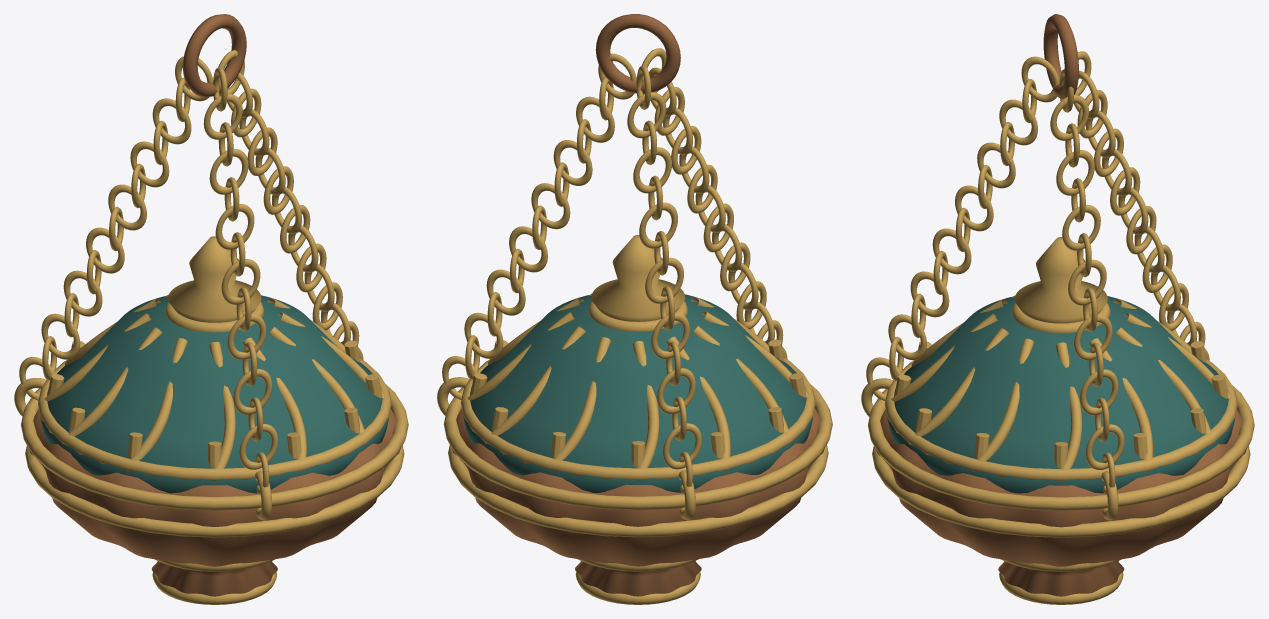
Rendered from prop.glb.
3 renders of one model, left to right at view 1: azimuth 30°, elevation 25°; view 2: azimuth 150°, elevation 25°; view 3: azimuth 270°, elevation 25°, orthographic.
Parts seen in each view (by area): view 1: Upper coal cup, Fluted incense bowl, Turned moulding.003, Turned moulding.002, Turned moulding.004, Spire, Carrying eye, Turned moulding, Vault rib.008, Vault rib.007, Vault rib.006, Turned moulding.005 (+28 smaller); view 2: Upper coal cup, Fluted incense bowl, Turned moulding.003, Turned moulding.002, Turned moulding.004, Spire, Carrying eye, Turned moulding, Vault rib.004, Vault rib.003, Vault rib.002, Turned moulding.005 (+30 smaller); view 3: Upper coal cup, Fluted incense bowl, Turned moulding.003, Turned moulding.002, Turned moulding.004, Spire, Carrying eye, Turned moulding, Vault rib, Vault rib.011, Vault rib.010, Turned moulding.005 (+30 smaller).
Part boxes in pixels (<box>): Upper coal cup: <box>40,295,389,493</box>; Fluted incense bowl: <box>29,409,400,596</box>; Turned moulding.003: <box>21,384,408,510</box>; Turned moulding.002: <box>25,445,404,537</box>; Turned moulding.004: <box>38,358,391,481</box>; Spire: <box>168,236,261,322</box>; Carrying eye: <box>183,14,246,97</box>; Turned moulding: <box>152,572,276,604</box>; Vault rib.008: <box>209,341,235,469</box>; Vault rib.007: <box>130,338,187,460</box>; Vault rib.006: <box>68,327,162,436</box>; Turned moulding.005: <box>165,302,264,332</box>; Upper coal cup: <box>462,294,812,492</box>; Fluted incense bowl: <box>451,408,824,596</box>; Turned moulding.003: <box>443,384,832,510</box>; Turned moulding.002: <box>448,445,828,537</box>; Turned moulding.004: <box>461,358,815,480</box>; Spire: <box>591,235,684,321</box>; Carrying eye: <box>595,14,680,93</box>; Turned moulding: <box>575,572,700,604</box>; Vault rib.004: <box>632,341,659,469</box>; Vault rib.003: <box>553,337,611,460</box>; Vault rib.002: <box>491,326,585,435</box>; Turned moulding.005: <box>588,301,687,331</box>; Upper coal cup: <box>887,296,1235,493</box>; Fluted incense bowl: <box>876,409,1246,596</box>; Turned moulding.003: <box>868,385,1254,510</box>; Turned moulding.002: <box>872,446,1250,537</box>; Turned moulding.004: <box>884,359,1237,480</box>; Spire: <box>1014,237,1107,323</box>; Carrying eye: <box>1043,14,1078,99</box>; Turned moulding: <box>999,572,1123,604</box>; Vault rib: <box>1055,342,1082,469</box>; Vault rib.011: <box>977,338,1034,461</box>; Vault rib.010: <box>915,328,1008,436</box>; Turned moulding.005: <box>1012,303,1110,333</box>.
Size of the model in its own units: 1.86 by 2.95 by 1.86.
